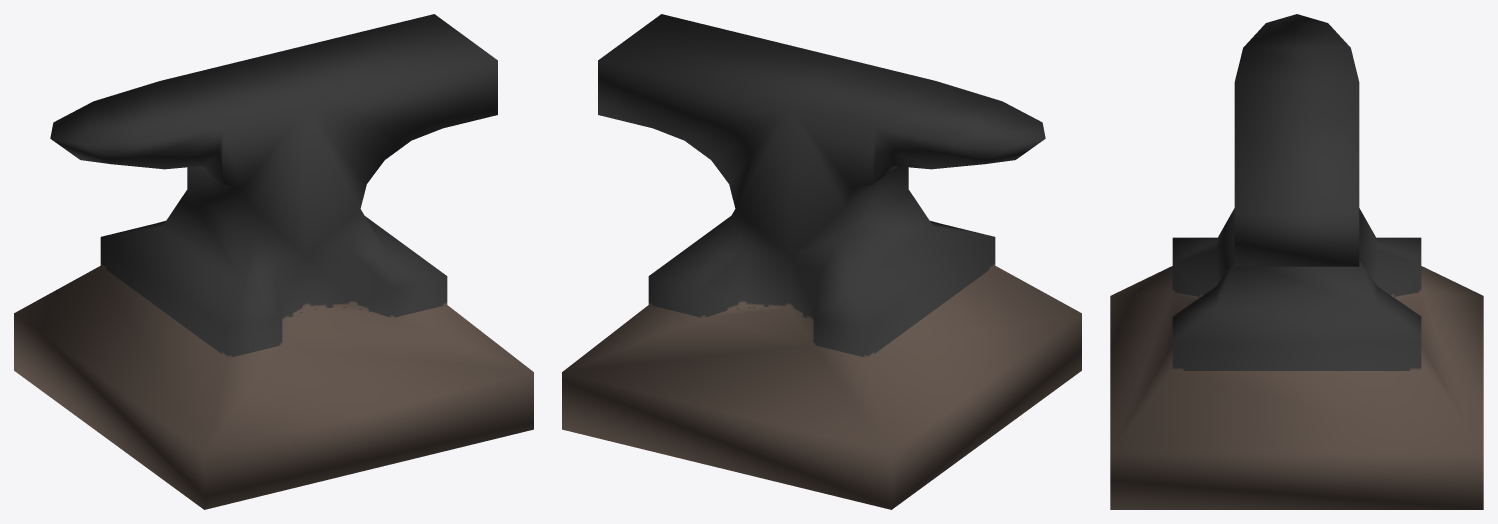
The model's file is anvil.glb.
The picture shows the model from 3 angles, left to right: view 1: azimuth 30°, elevation 25°; view 2: azimuth 150°, elevation 25°; view 3: azimuth 270°, elevation 25°; orthographic projection.
Visible parts, largest first — view 1: anvil; view 2: anvil; view 3: anvil.
Boxes of the visible parts, x1=… form: anvil: x1=14, y1=14, x2=533, y2=509; anvil: x1=562, y1=14, x2=1081, y2=509; anvil: x1=1110, y1=14, x2=1483, y2=509.
Size of the model in its own units: 1.03 by 0.748 by 0.816.
1 material, 1 textured.
